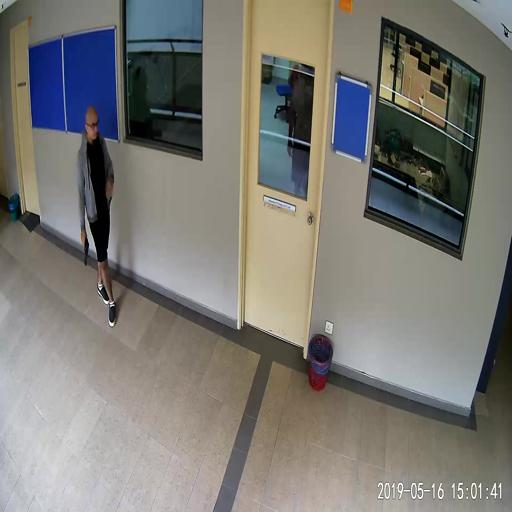pistol: (81, 235, 89, 265)
